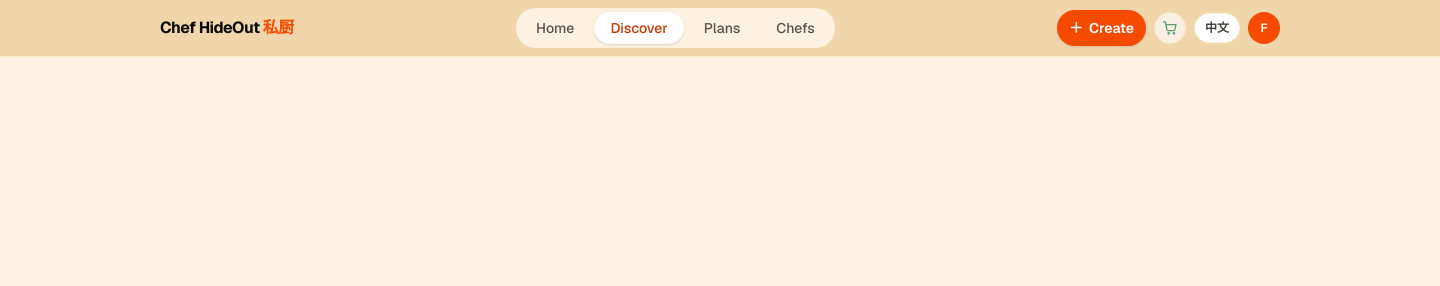
Test case: NavBar profile menu › opens explicit profile actions from the avatar instead of showing a standalone logout arrow
The width and height of the screenshot is (1440, 286).
Expected: the field labelled "Log Out" is not shown
Step 1. Click the button named "Profile" → (1264, 28), box [1248,12,1280,44]
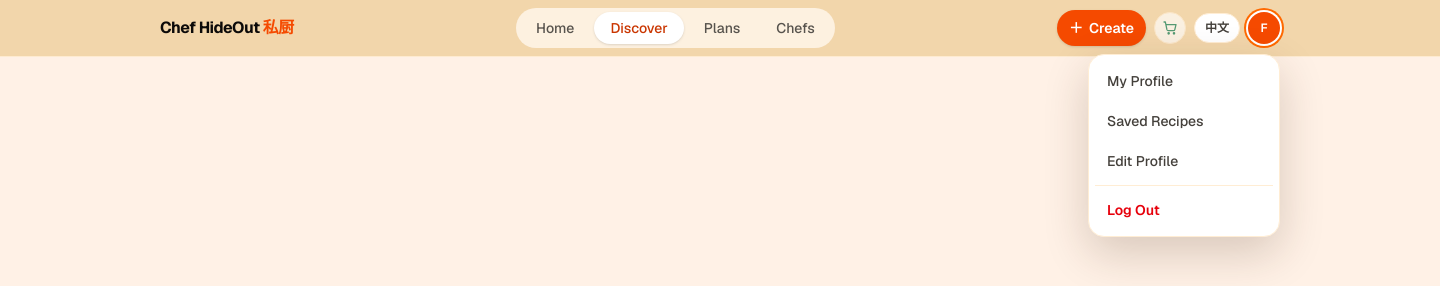
Expected: the button named "Profile" is expanded, [1248,12,1280,44]
Expected: the menu is shown, [1088,54,1280,237]
Expected: the menu item "Log Out" is shown, [1095,190,1273,230]
